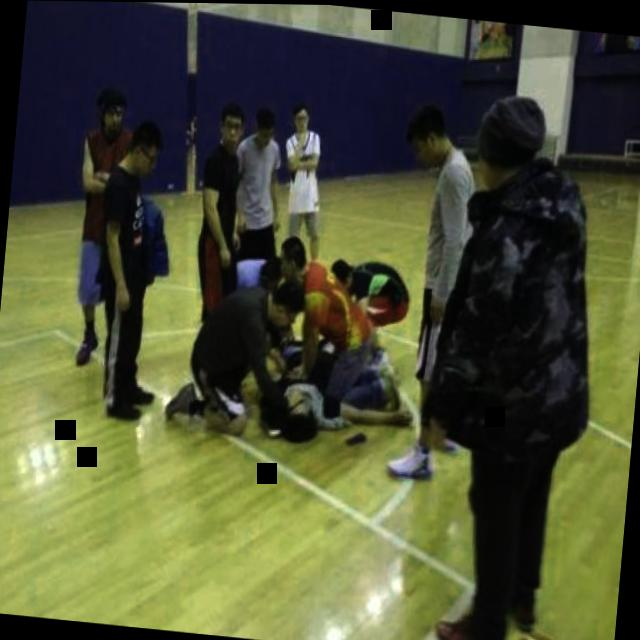Fall-Detected: (255, 318, 422, 463)
